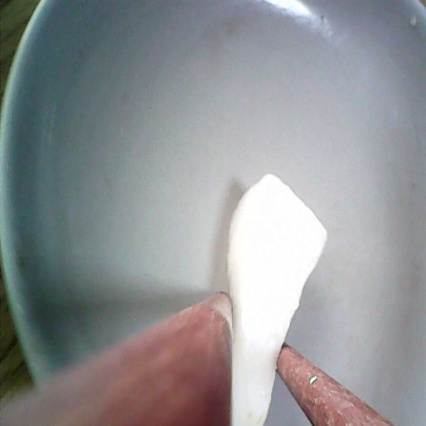white_chinese-yam: (224, 167, 329, 426)
